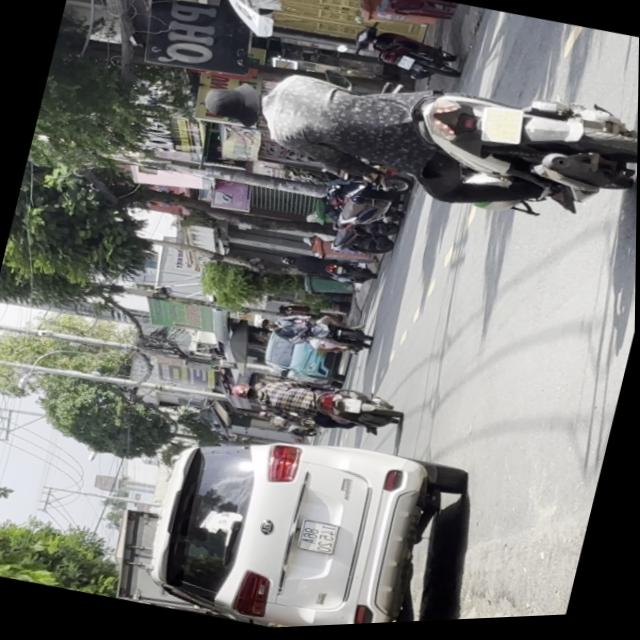helmet: (228, 381, 258, 404)
licenseplate: (183, 19, 640, 263), (223, 361, 407, 450)
motorcyclist: (198, 79, 271, 133)
nohelmet: (477, 107, 525, 151), (341, 399, 362, 417)
